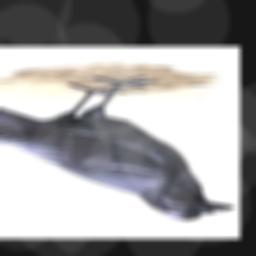Crow: (0, 73, 235, 221)
